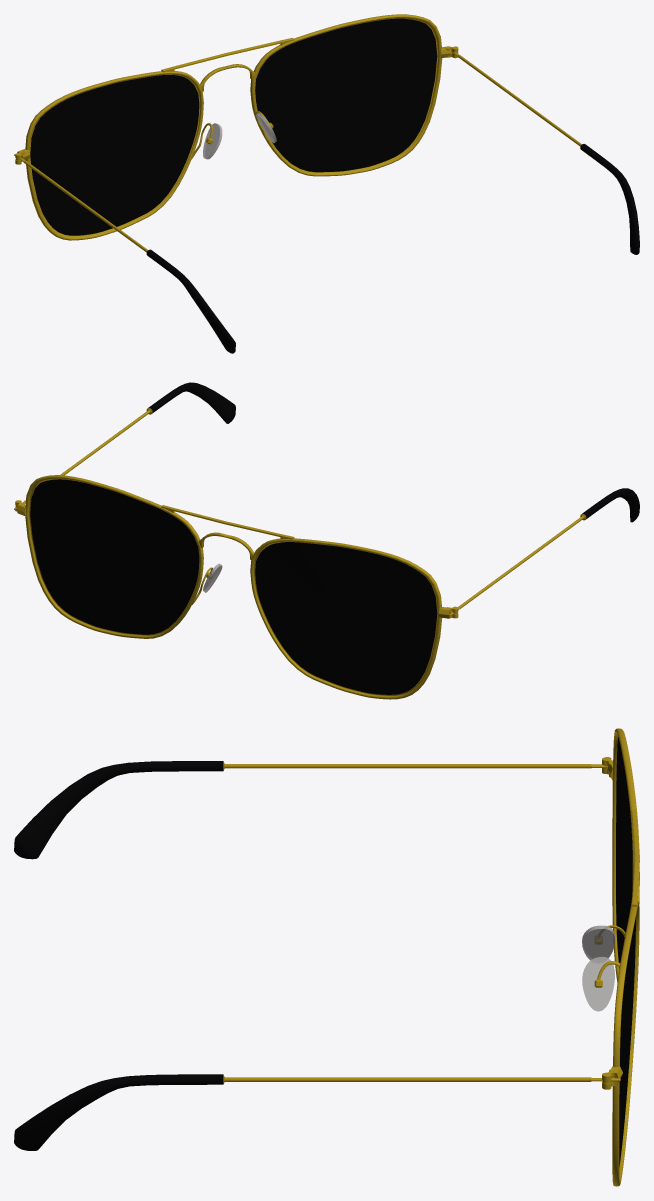
The model's file is sunglasses1.glb.
The picture shows the model from 3 angles, top to bottom: view 1: azimuth 30°, elevation 25°; view 2: azimuth 150°, elevation 25°; view 3: azimuth 270°, elevation 25°; orthographic projection. The views are drawn at different scales.
Visible parts, largest first — view 1: naocobjcleanermaterialmergergles; view 2: naocobjcleanermaterialmergergles; view 3: naocobjcleanermaterialmergergles.
Part boxes in pixels (bbox=[...]): naocobjcleanermaterialmergergles: bbox=[14, 14, 639, 353]; naocobjcleanermaterialmergergles: bbox=[14, 382, 639, 699]; naocobjcleanermaterialmergergles: bbox=[14, 728, 639, 1186].
Size of the model in its own units: 1.3 by 0.4224 by 1.08.
